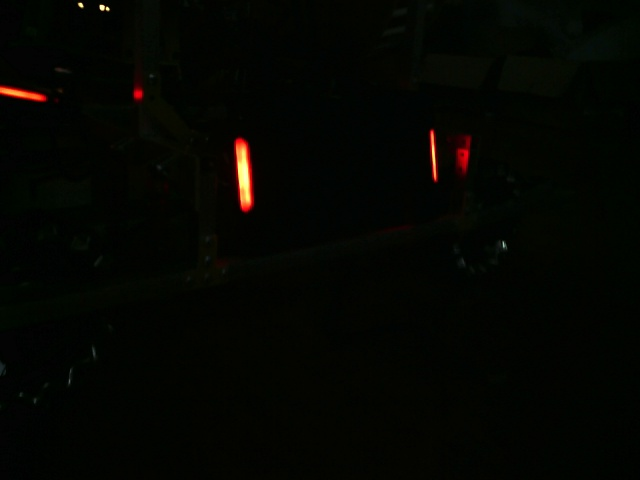lamp: (230, 137, 256, 213)
